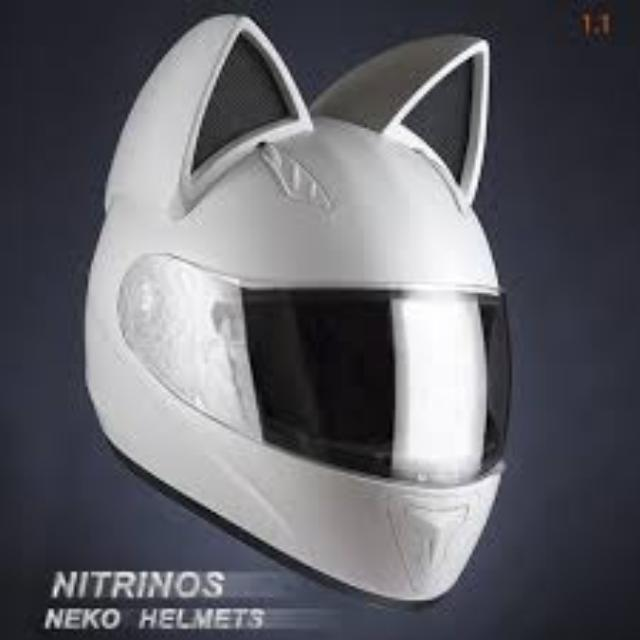motorcycle-helmets: (85, 17, 509, 600)
